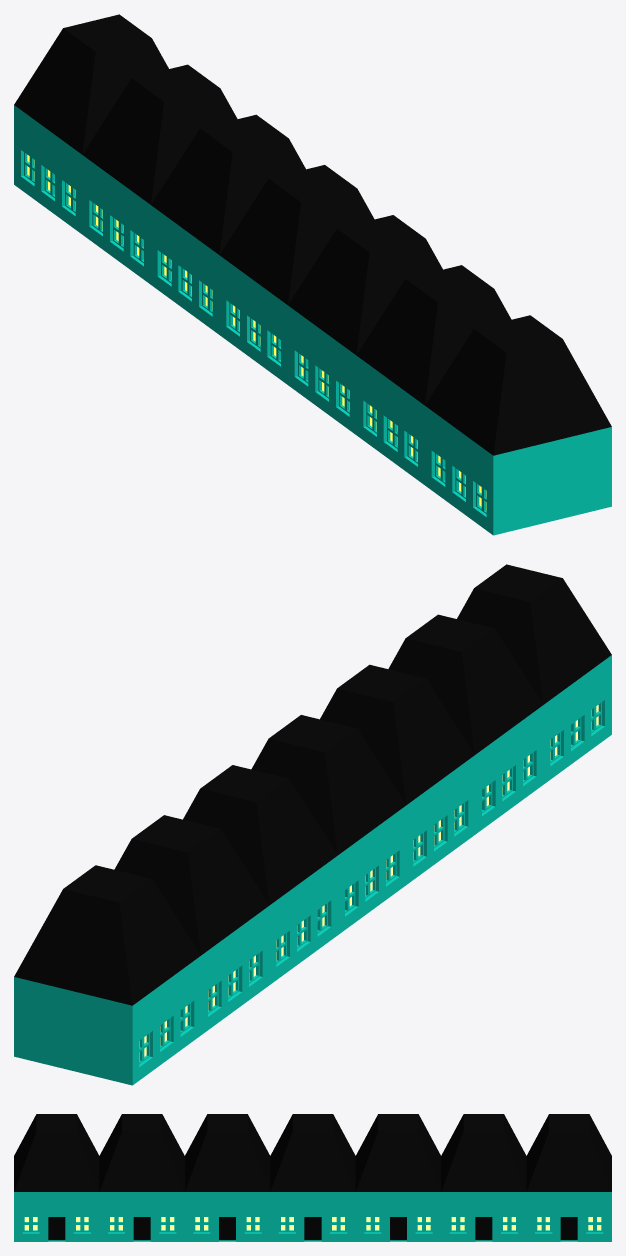
The model's file is bungalows_4(7).fbx.
3 views of the same model, one above another, from view 1: azimuth 30°, elevation 25°; view 2: azimuth 150°, elevation 25°; view 3: azimuth 270°, elevation 25° (orthographic). The views are drawn at different scales.
Parts seen in each view (by area): view 1: Cube; view 2: Cube; view 3: Cube.
Part boxes in pixels (left/top/right/bottom): Cube: left=14, top=14, right=611, bottom=535; Cube: left=14, top=564, right=611, bottom=1085; Cube: left=14, top=1114, right=611, bottom=1241.
Bounding box in the file's own units: 28 × 36.56 × 196.
